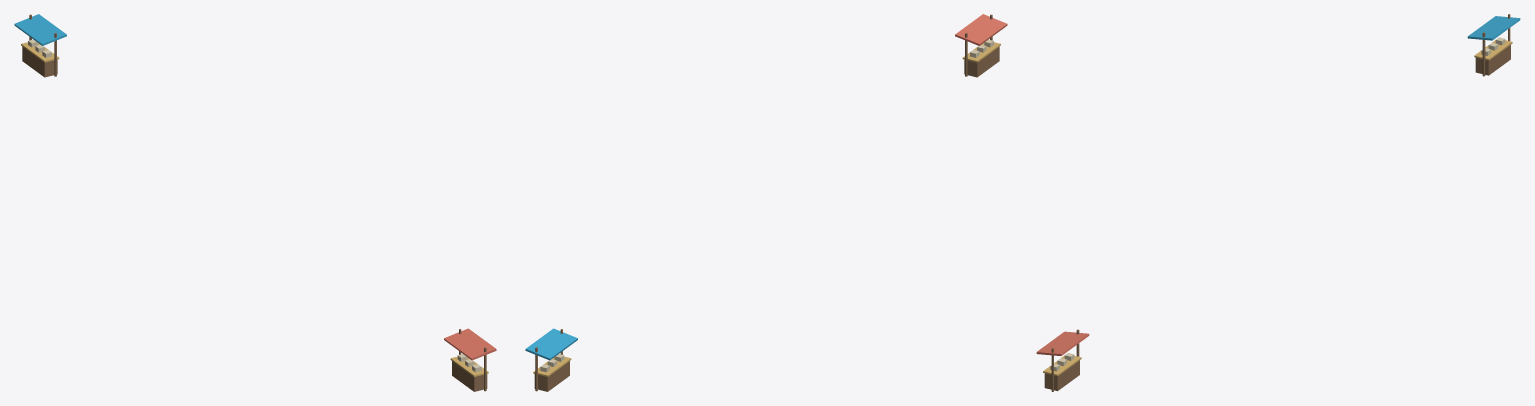
File: SM_R02A_Shop_Props.fbx
3 renders of one model, left to right at view 1: azimuth 30°, elevation 25°; view 2: azimuth 150°, elevation 25°; view 3: azimuth 330°, elevation 25°, orthographic.
Visible parts, largest first — view 1: SM_R02A_Shop_Props; view 2: SM_R02A_Shop_Props; view 3: SM_R02A_Shop_Props.
Boxes of the visible parts, bbox=[...] form: SM_R02A_Shop_Props: bbox=[14, 14, 496, 391]; SM_R02A_Shop_Props: bbox=[525, 14, 1007, 391]; SM_R02A_Shop_Props: bbox=[1036, 14, 1520, 391].
Bounding box in the file's own units: 200 × 6390 × 330.
